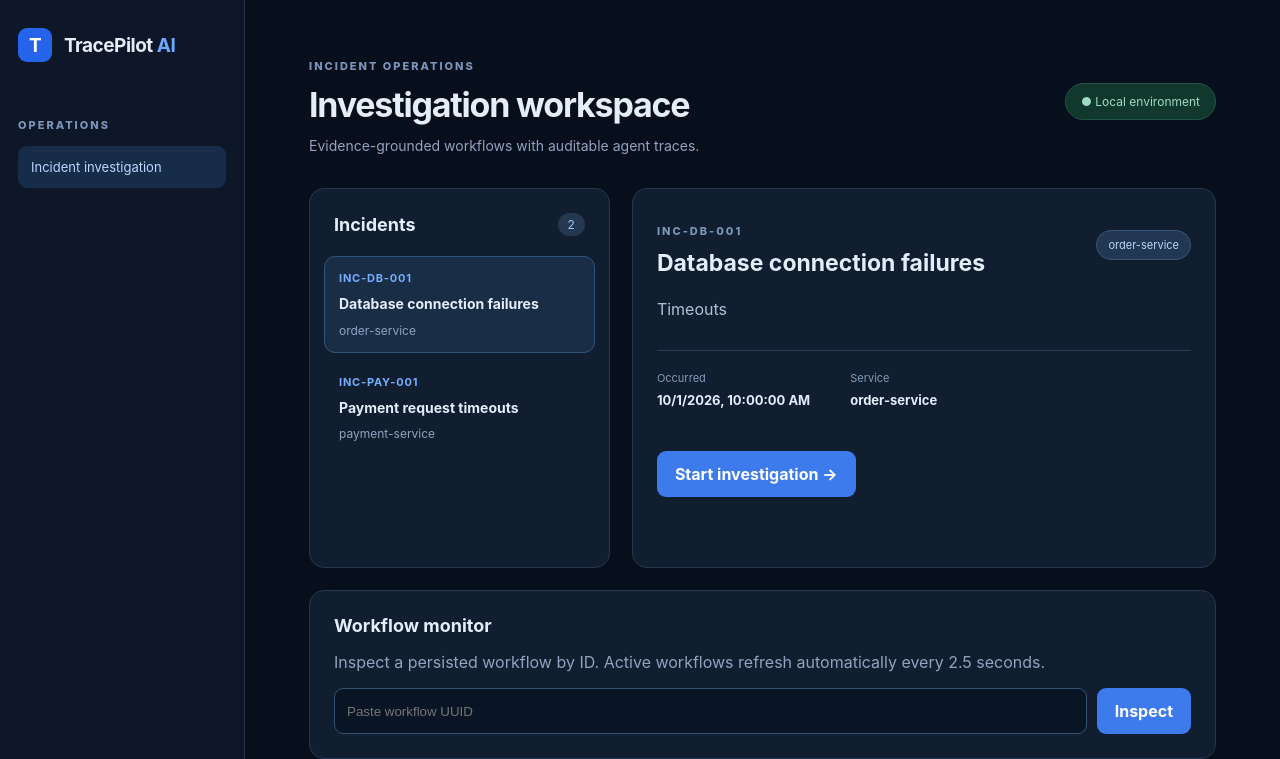
Test: Investigation workspace › keeps incident visible when workflow execution fails
Expected: the heading "Database connection failures" is shown, 657,249 -> 985,278
What coordinates should you click on to do the following:
click the button "Start investigation →"
I would click on:
 (756, 474)
Its box is 657,451 -> 856,497.
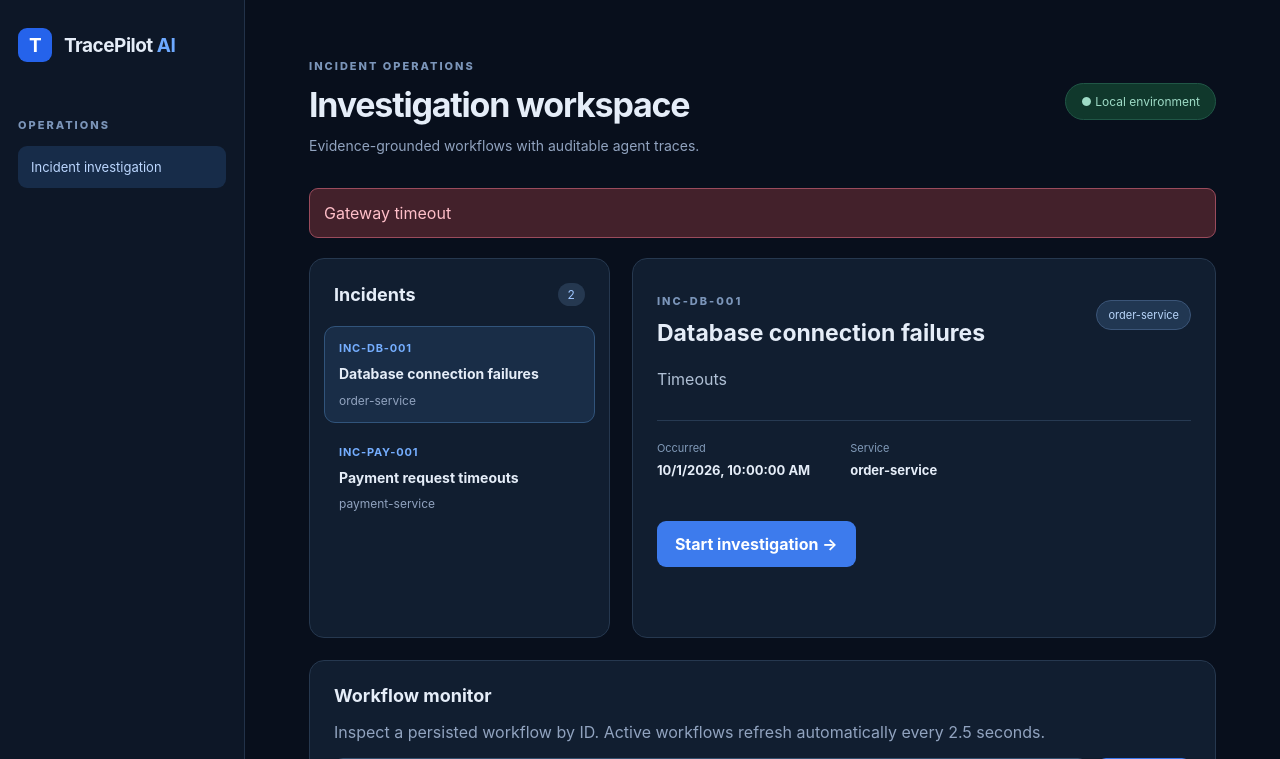
Expected: the heading "Database connection failures" is shown, 657,319 -> 985,348
Now the message reads "Gateway timeout", box 324,203 -> 451,223
